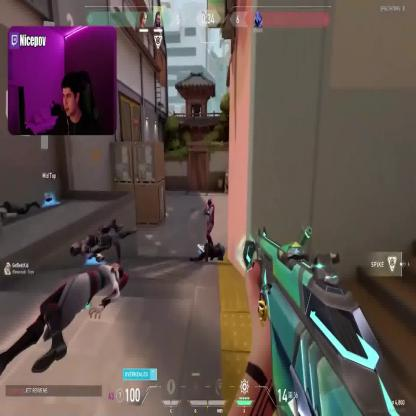enemy: (202, 197, 215, 253)
enemy_head: (208, 197, 212, 206)
